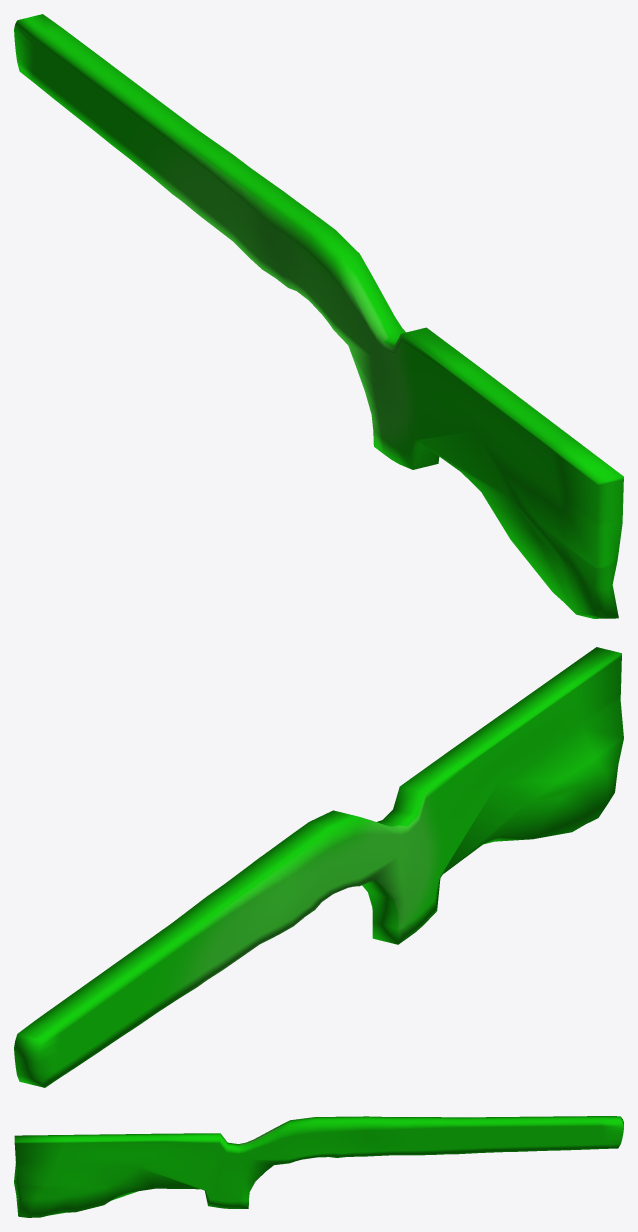
The model's file is awpBody.fbx.
3 renders of one model, top to bottom at view 1: azimuth 30°, elevation 25°; view 2: azimuth 150°, elevation 25°; view 3: azimuth 270°, elevation 25°, orthographic. The views are drawn at different scales.
Visible parts, largest first — view 1: Cube; view 2: Cube; view 3: Cube.
Part boxes in pixels (box(x1,y1,x2,y2)): Cube: box(14, 14, 623, 618); Cube: box(14, 647, 623, 1087); Cube: box(14, 1116, 623, 1217).
Bounding box in the file's own units: 10.53 × 56.57 × 319.
1 material, 1 textured.
